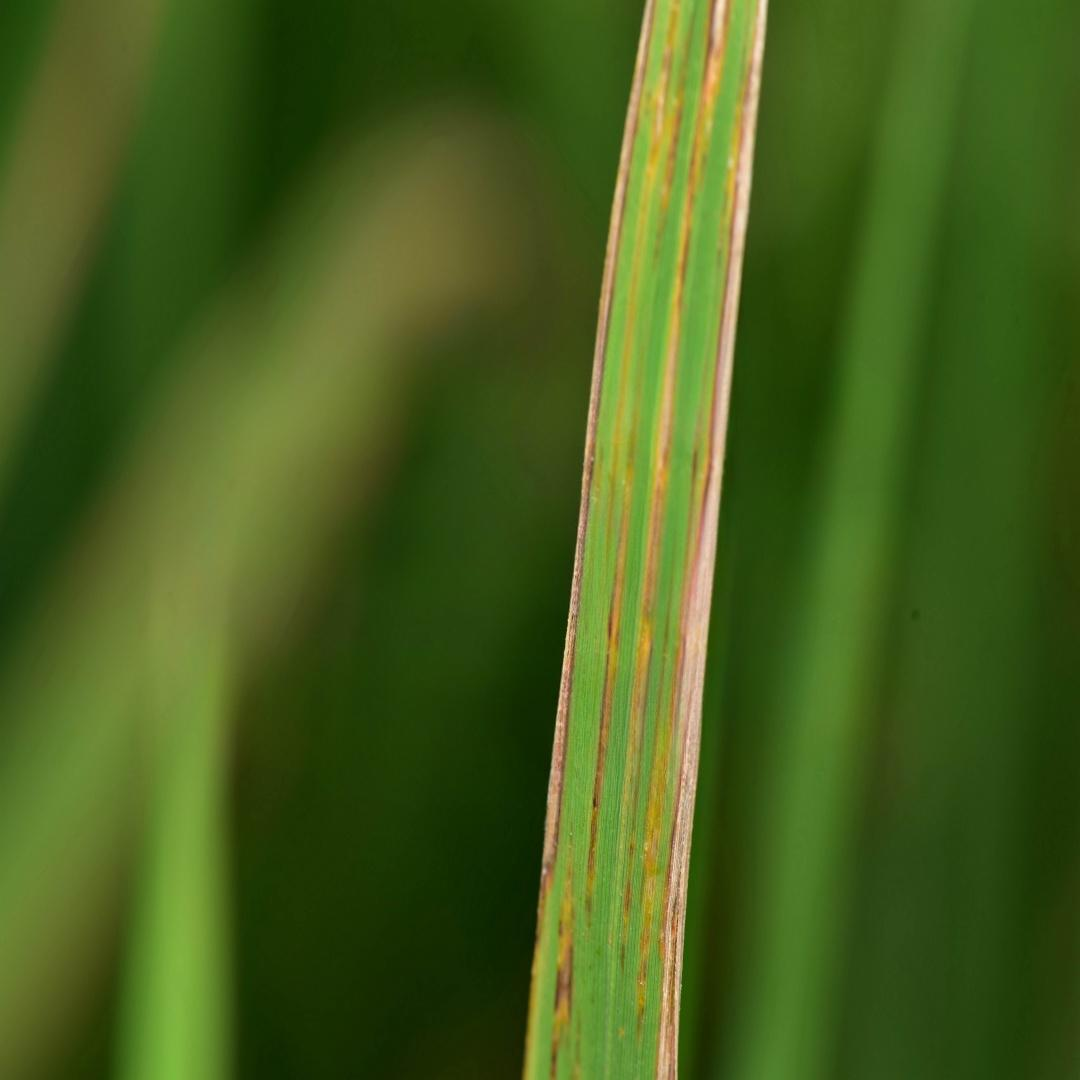BLS: (522, 0, 657, 1079), (657, 0, 770, 1079), (618, 0, 732, 978), (638, 364, 707, 1054), (606, 0, 682, 573), (585, 339, 644, 933), (650, 1, 698, 282), (715, 1, 751, 277), (550, 821, 575, 1079)
